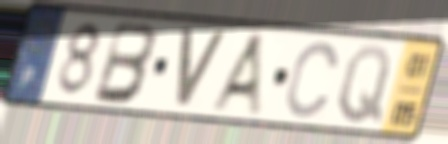8: (53, 20, 101, 99)
A: (207, 31, 269, 121)
B: (89, 19, 161, 108)
C: (282, 39, 342, 122)
Q: (334, 42, 394, 127)
V: (174, 24, 230, 113)
